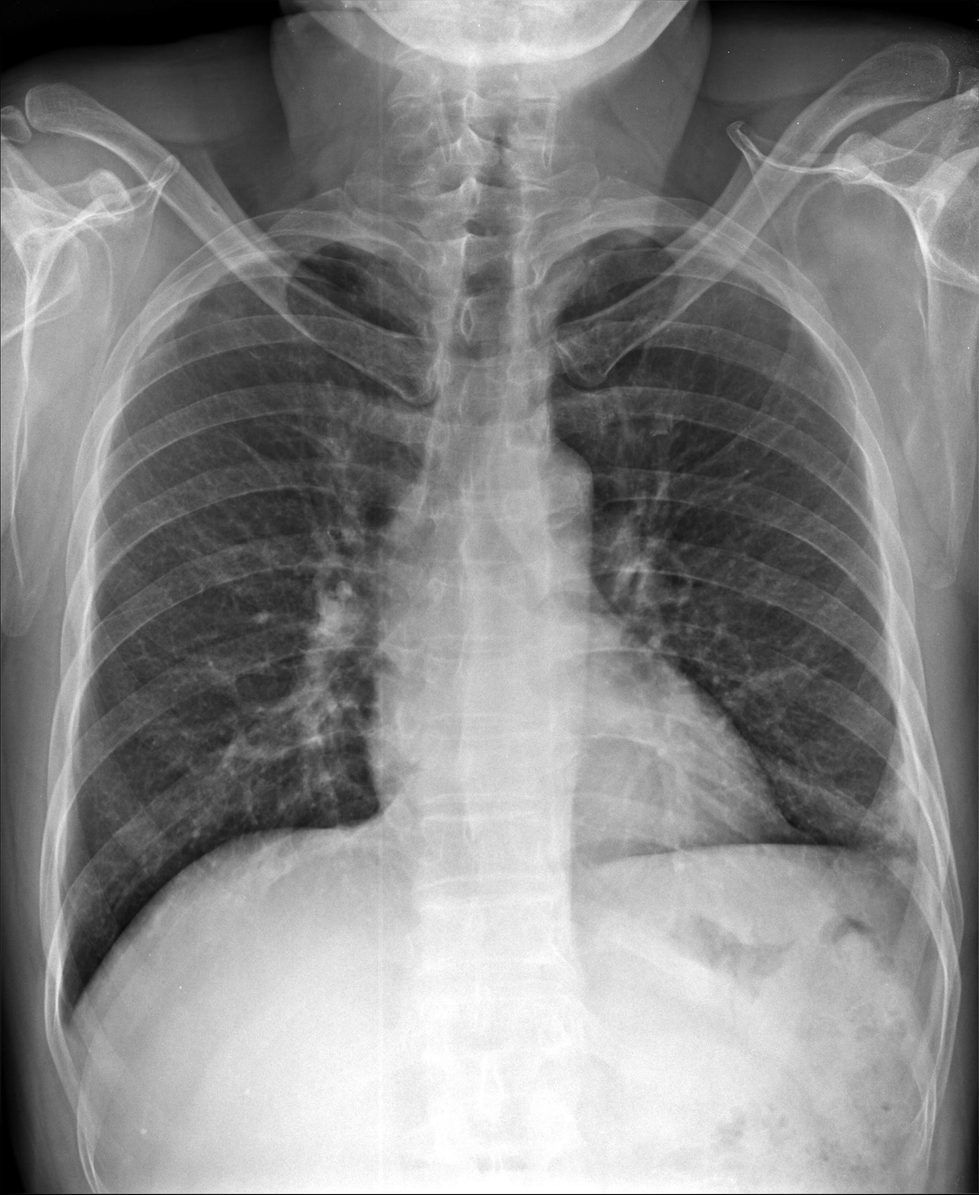Pleural thickening: (129, 249, 293, 370), (687, 217, 802, 301), (865, 793, 945, 910)
